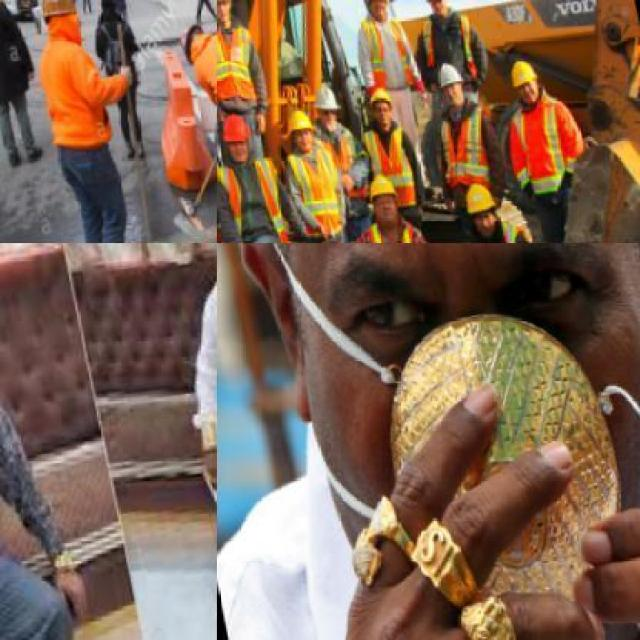vest: (503, 97, 577, 192), (217, 152, 289, 242), (356, 114, 418, 211), (282, 140, 343, 238), (432, 96, 494, 184), (355, 8, 414, 88), (417, 6, 478, 79), (217, 22, 265, 108), (316, 117, 362, 180), (456, 209, 532, 242), (362, 212, 429, 242)
